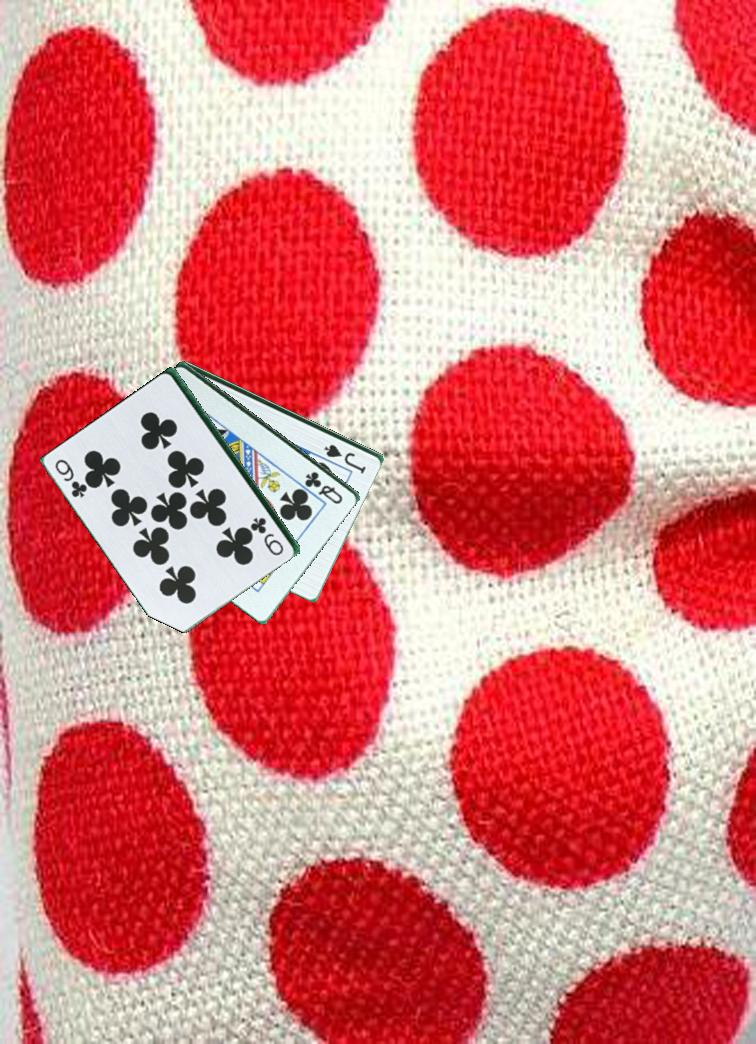9c: (52, 455, 95, 503), (250, 514, 287, 558)
js: (320, 440, 369, 474)
qc: (302, 468, 346, 507)
